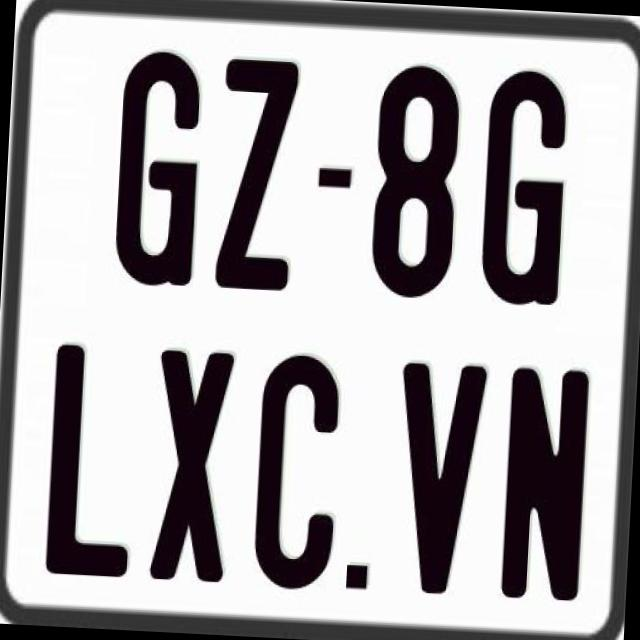8: (366, 59, 464, 303)
C: (248, 352, 340, 598)
G: (476, 68, 574, 308), (114, 47, 206, 288)
L: (42, 340, 140, 572)
N: (500, 362, 596, 604)
V: (392, 360, 488, 594)
X: (150, 350, 238, 589)
Z: (214, 55, 300, 293)
